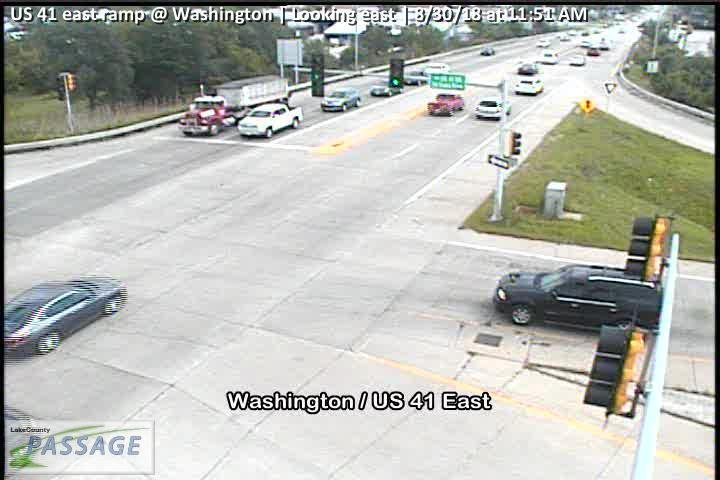SUV: (491, 263, 670, 334)
Sedan: (3, 274, 127, 357), (319, 87, 364, 111), (472, 99, 511, 120), (513, 78, 545, 95), (368, 84, 403, 98)
Truck: (177, 75, 288, 135), (236, 101, 305, 138), (425, 93, 463, 115)
